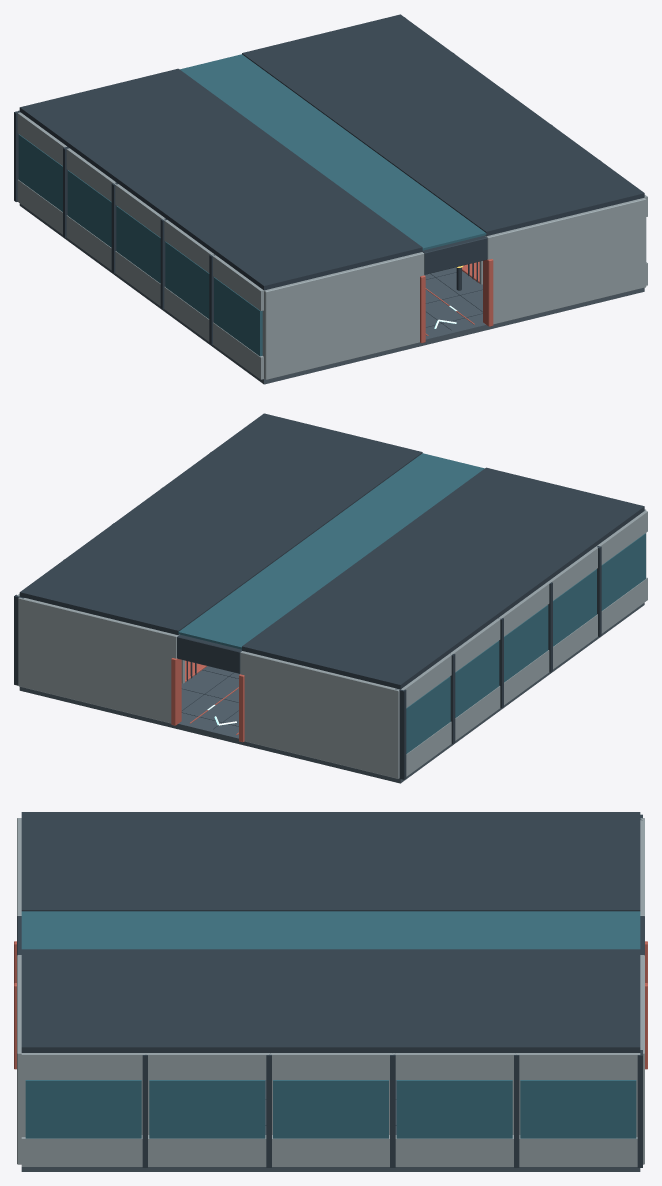
Rendered from babes_security.glb.
3 renders of one model, top to bottom at view 1: azimuth 30°, elevation 25°; view 2: azimuth 150°, elevation 25°; view 3: azimuth 270°, elevation 25°, orthographic. The views are drawn at different scales.
Parts seen in each view (by area): view 1: roof-col, front_wall-col, side_walls-col, deck-col; view 2: roof-col, back_wall-col, side_walls-col, deck-col; view 3: roof-col, side_walls-col, deck-col, front_wall-col, back_wall-col, furnishings-col.
Part boxes in pixels (left/top/right/bottom): roof-col: left=19, top=14, right=644, bottom=290; front_wall-col: left=262, top=198, right=646, bottom=379; side_walls-col: left=14, top=17, right=647, bottom=379; deck-col: left=19, top=203, right=644, bottom=384; roof-col: left=19, top=413, right=644, bottom=689; back_wall-col: left=18, top=597, right=399, bottom=778; side_walls-col: left=14, top=452, right=647, bottom=779; deck-col: left=19, top=603, right=644, bottom=783; roof-col: left=21, top=812, right=640, bottom=1052; side_walls-col: left=21, top=814, right=642, bottom=1167; deck-col: left=21, top=1080, right=640, bottom=1171; front_wall-col: left=14, top=818, right=25, bottom=1164; back_wall-col: left=636, top=818, right=647, bottom=1164; furnishings-col: left=141, top=1080, right=520, bottom=1134.
Size of the model in its own units: 36.9 by 8.9 by 41.
